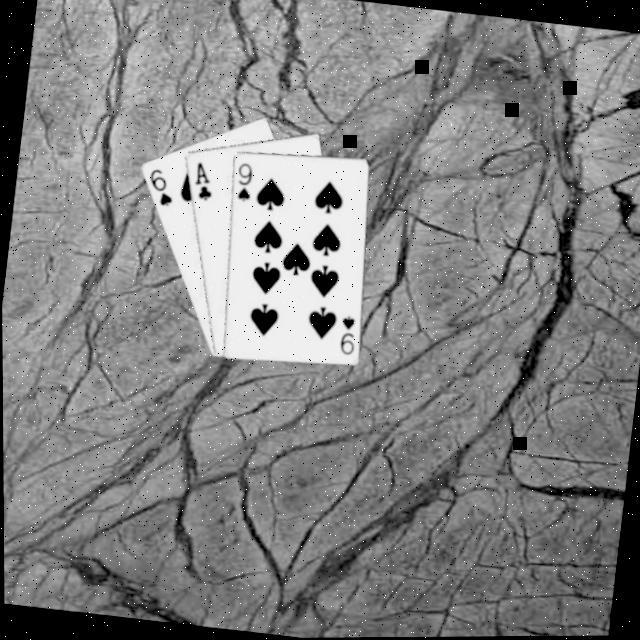6S: (142, 166, 176, 210)
9S: (333, 312, 358, 358), (230, 159, 254, 206)
AC: (187, 158, 216, 204)
